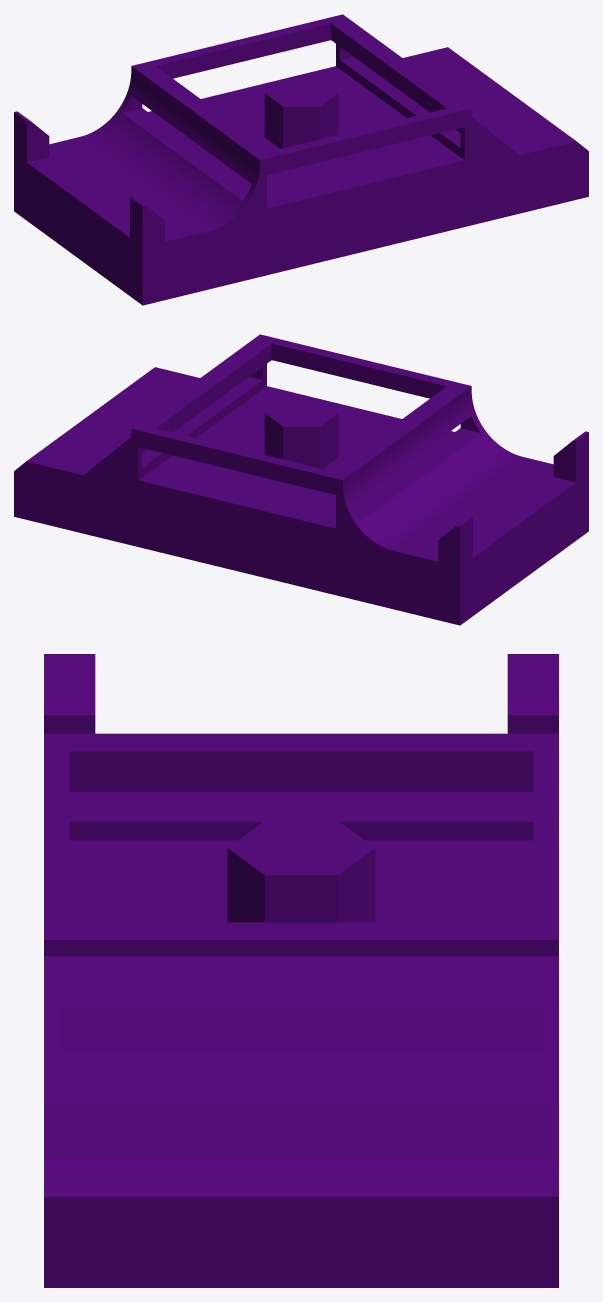
Rendered from mogi_bot.dae.
3 renders of one model, top to bottom at view 1: azimuth 30°, elevation 25°; view 2: azimuth 150°, elevation 25°; view 3: azimuth 270°, elevation 25°, orthographic. The views are drawn at different scales.
Visible parts, largest first — view 1: node0; view 2: node0; view 3: node0.
Part boxes in pixels (bbox=[...]): node0: bbox=[14, 14, 588, 305]; node0: bbox=[14, 334, 588, 625]; node0: bbox=[44, 654, 558, 1287].
Size of the model in its own units: 0.4 by 0.2 by 0.1.
